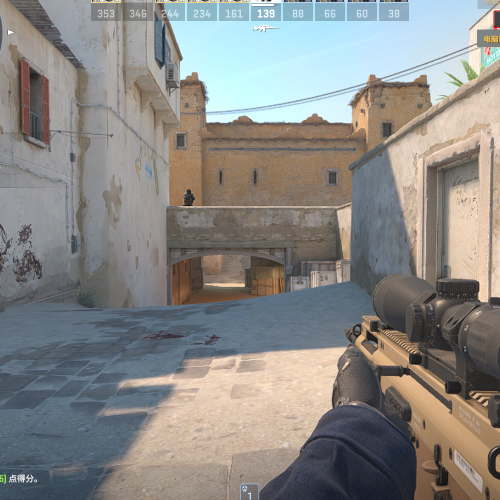ct_body: (184, 189, 196, 207)
ct_head: (186, 189, 192, 195)
